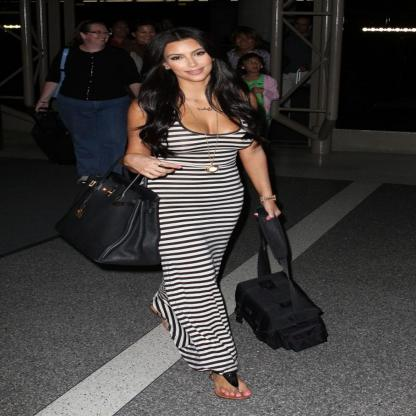face: (165, 41, 212, 82), (87, 28, 111, 45), (137, 28, 157, 44), (237, 34, 256, 49), (245, 59, 262, 72), (114, 25, 129, 37), (297, 21, 310, 34), (162, 22, 172, 30)
